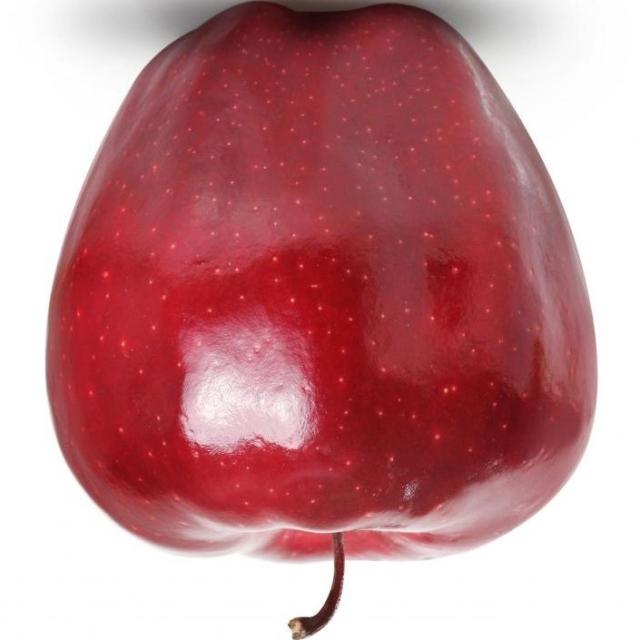100-_ripeness: (57, 0, 590, 563)
